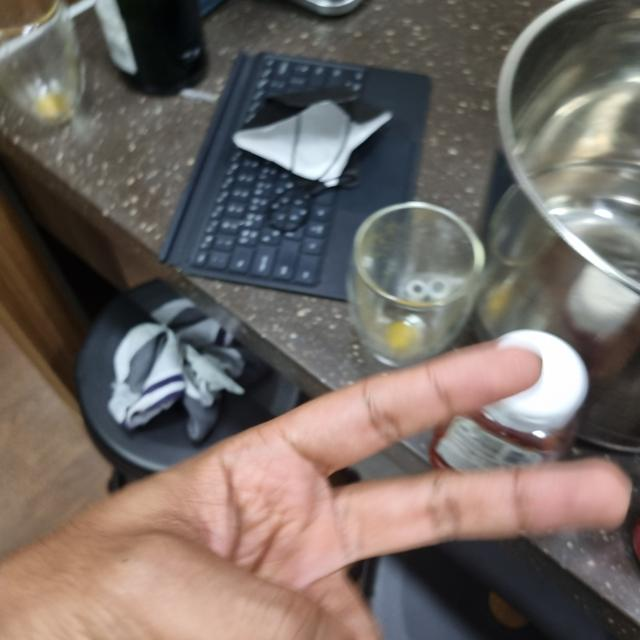Scissors: (0, 345, 633, 639)
